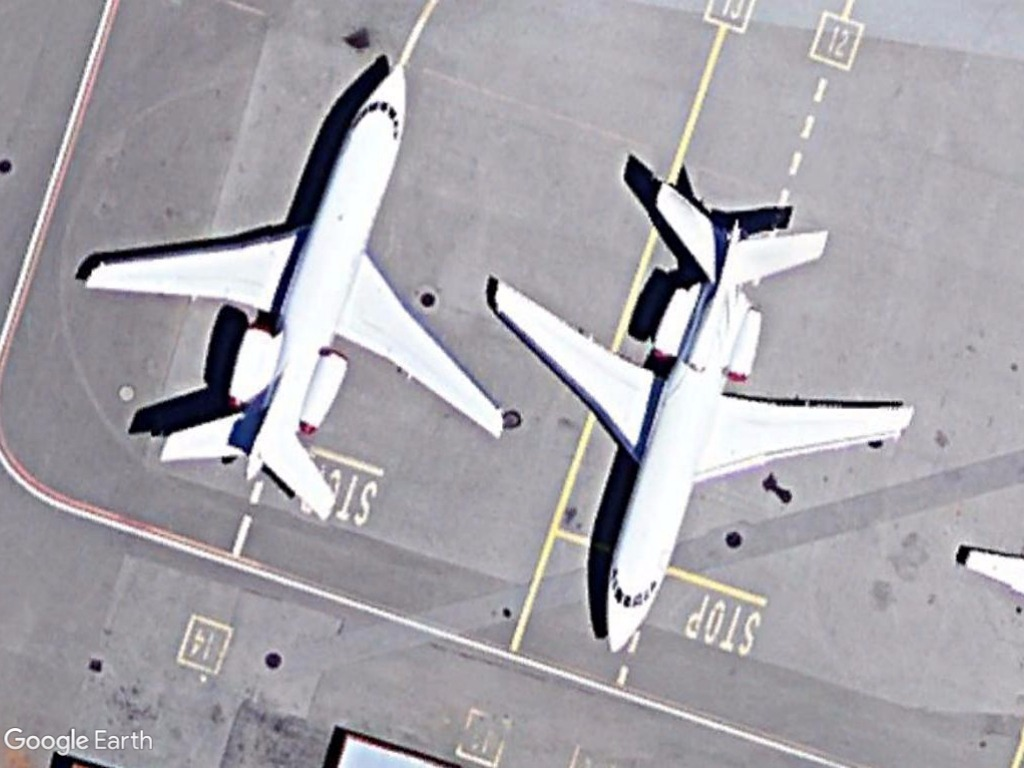chartered: (484, 168, 921, 662), (75, 50, 516, 530)
